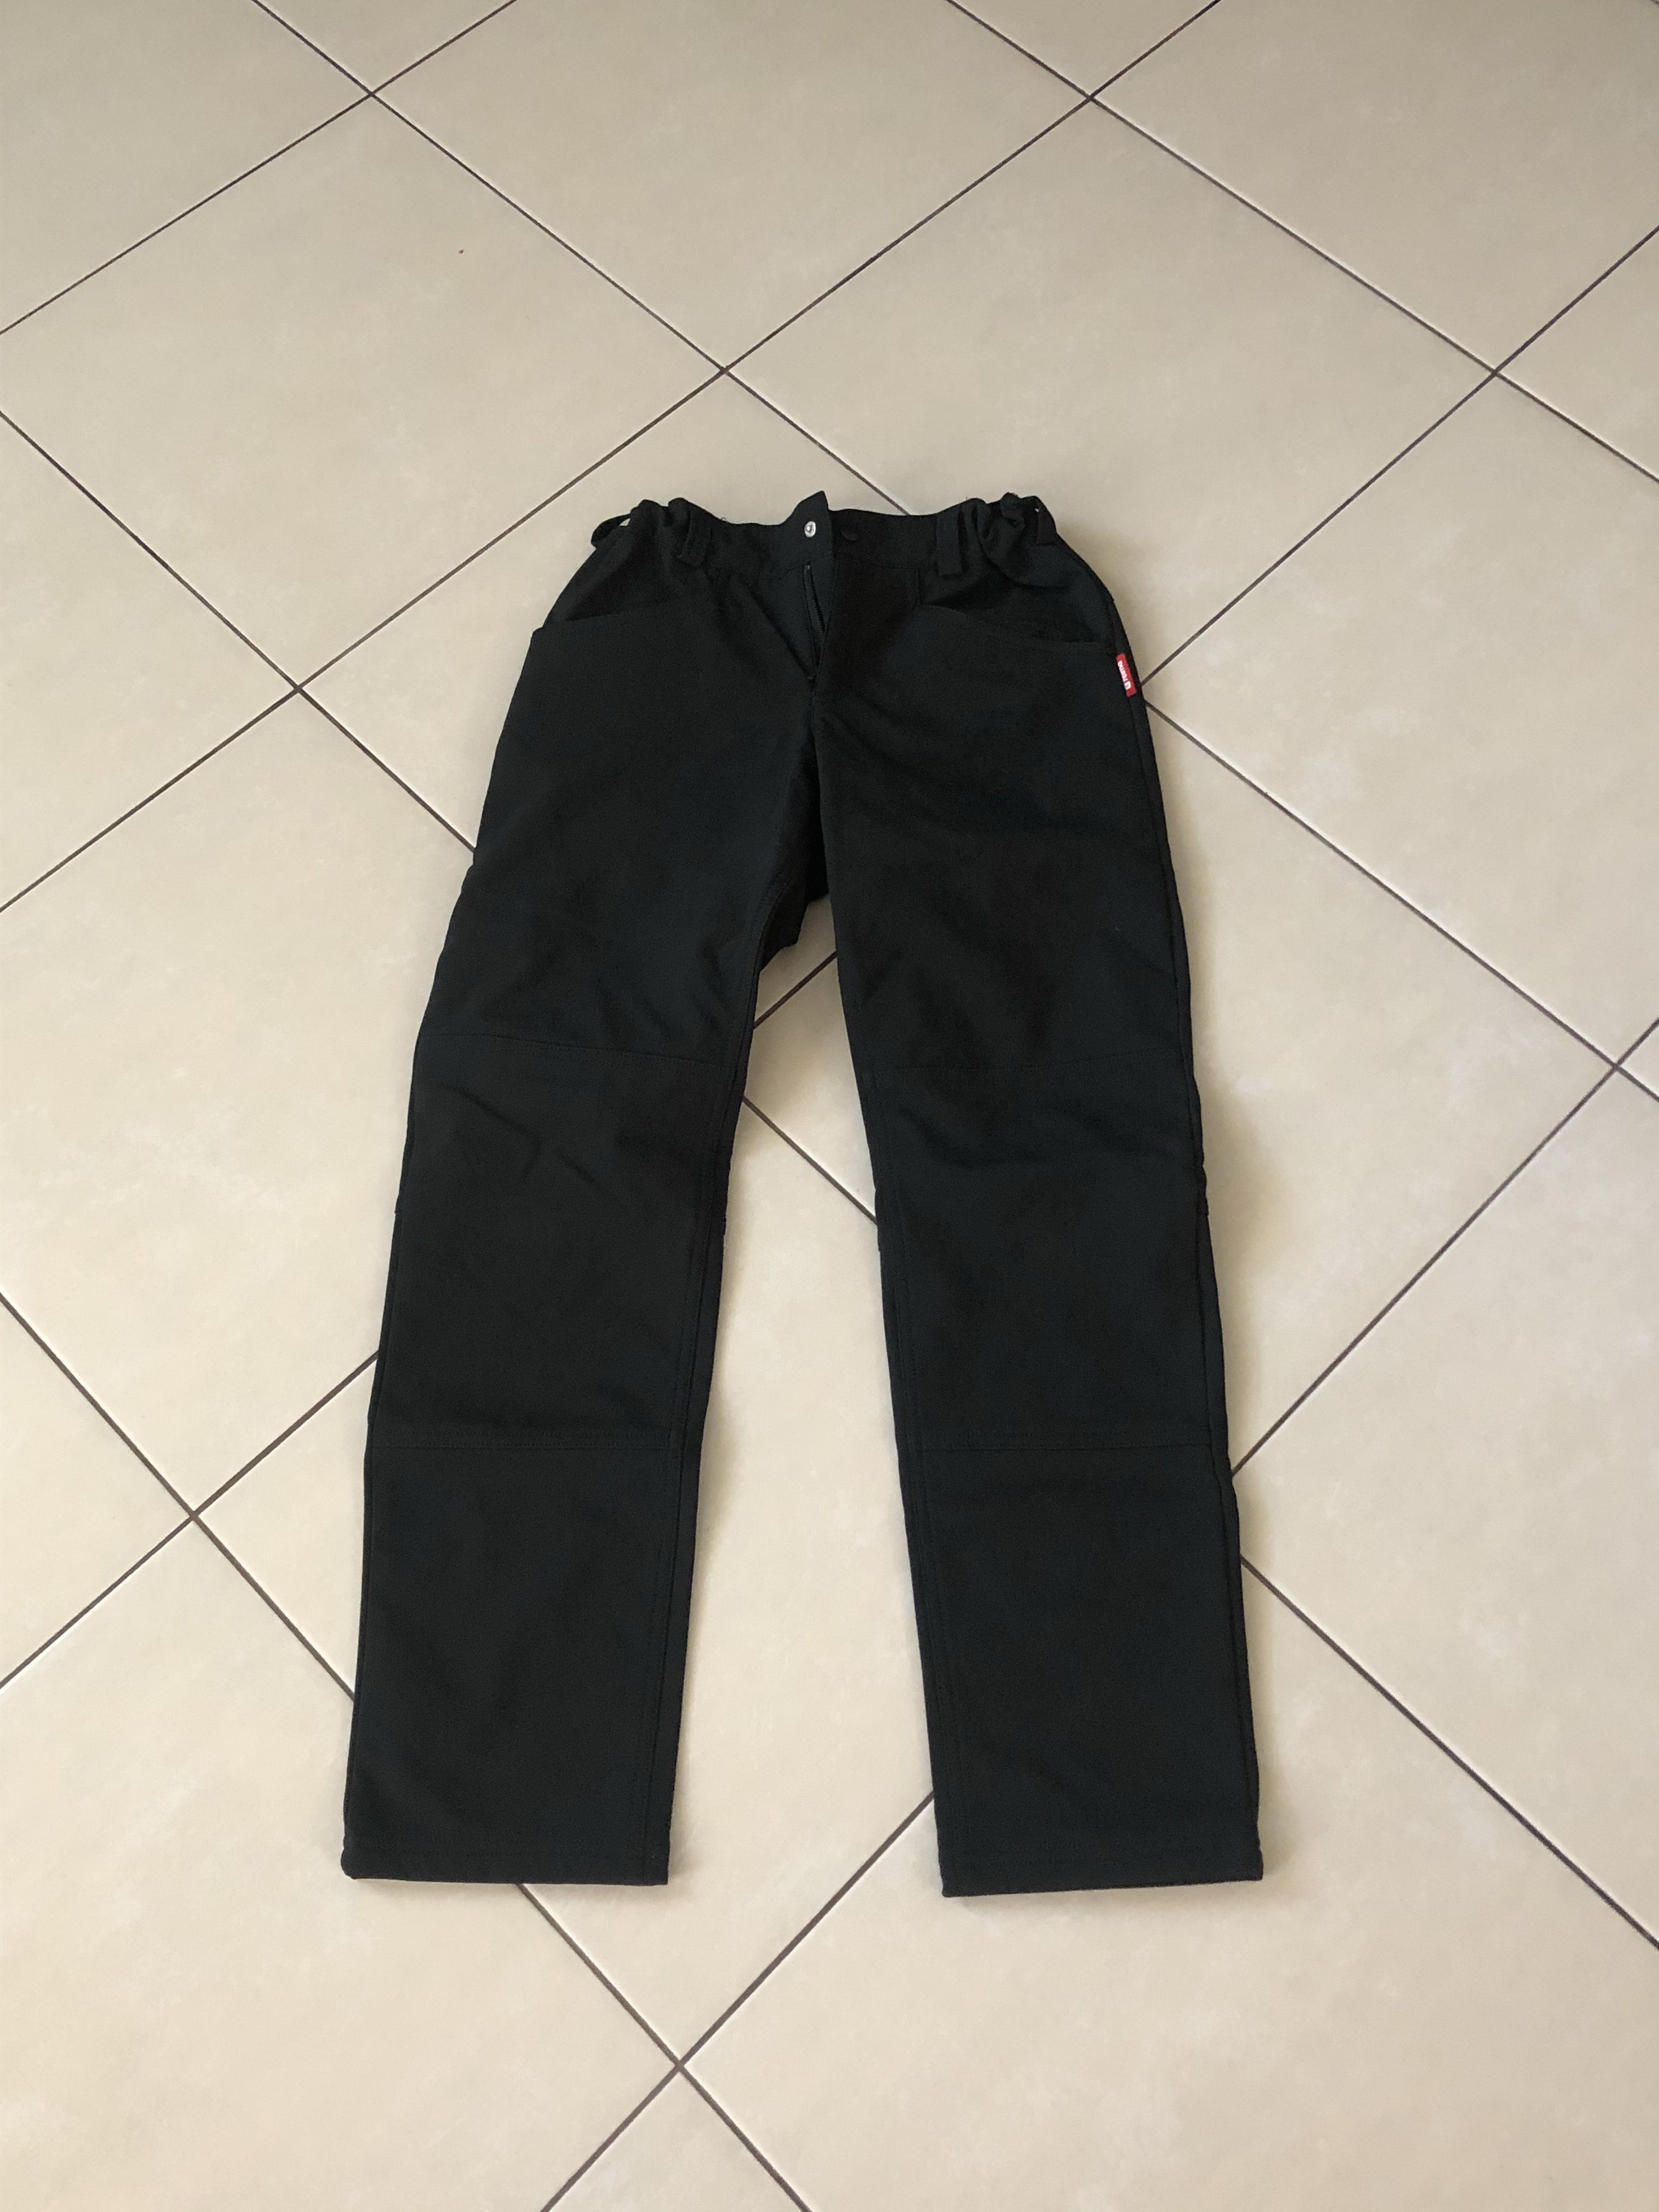clothes: (336, 479, 1286, 1914)
